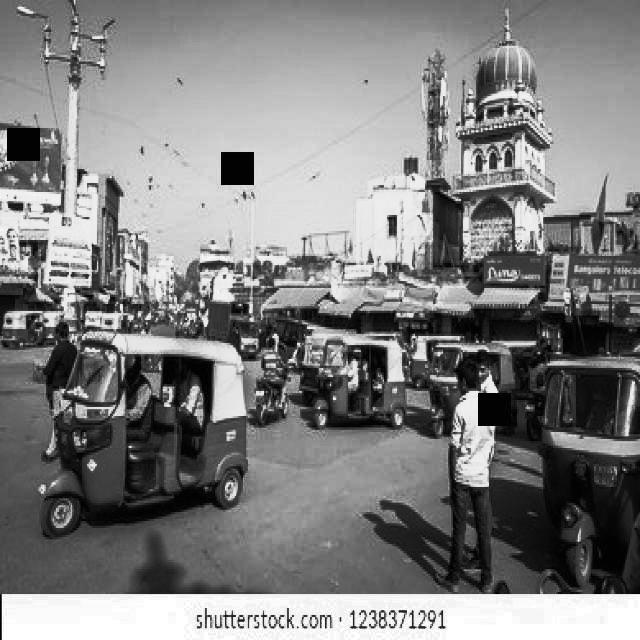Auto-Rickshaw: (45, 322, 260, 542), (528, 354, 640, 598), (406, 327, 544, 446), (297, 313, 415, 439), (2, 297, 62, 343)
